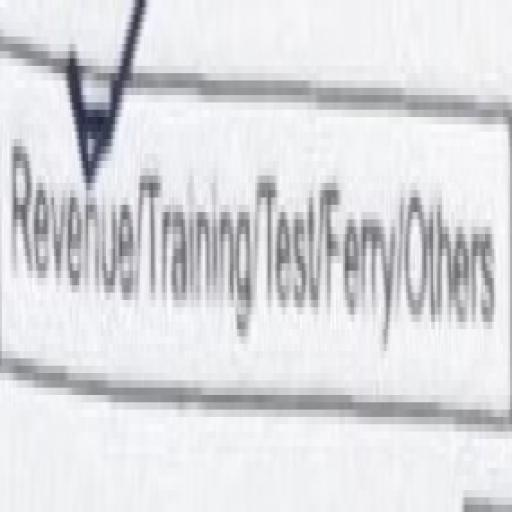check: (7, 14, 140, 390)
